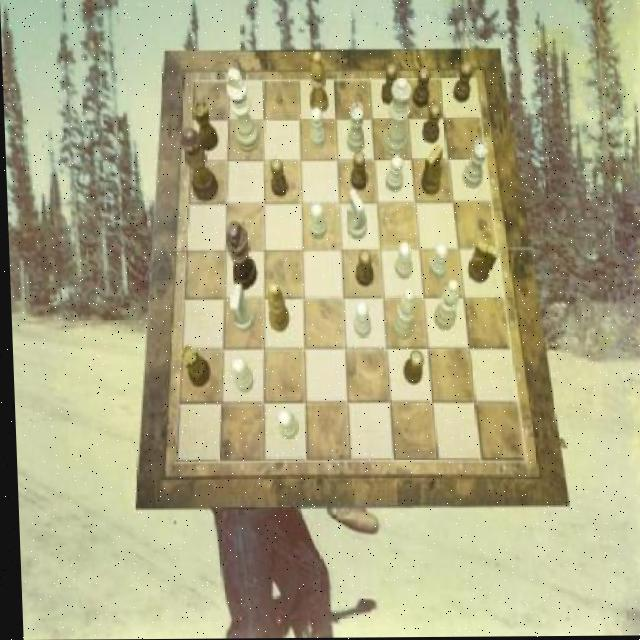bishop: (307, 52, 328, 113), (264, 283, 287, 334)
black-bishop: (224, 222, 256, 291)
black-king: (464, 240, 498, 284), (418, 145, 443, 196)
black-knight: (450, 63, 473, 103), (420, 105, 441, 145), (411, 68, 431, 110), (268, 158, 287, 198), (399, 350, 421, 384), (348, 152, 367, 190), (380, 65, 397, 107), (353, 250, 371, 288)
black-pawn: (178, 128, 217, 202)
black-queen: (192, 100, 217, 151), (178, 345, 207, 388)
black-rook: (389, 290, 415, 343), (430, 280, 457, 330)
white-bishop: (225, 69, 260, 153)
white-king: (227, 285, 253, 332), (344, 188, 366, 240)
white-knight: (228, 357, 252, 393), (426, 243, 447, 280), (309, 107, 326, 150), (350, 301, 368, 339), (392, 244, 411, 280), (384, 156, 402, 194), (274, 409, 296, 440), (307, 204, 325, 239)
white-pawn: (379, 78, 413, 158)
white-queen: (460, 142, 489, 190), (344, 104, 365, 154)
